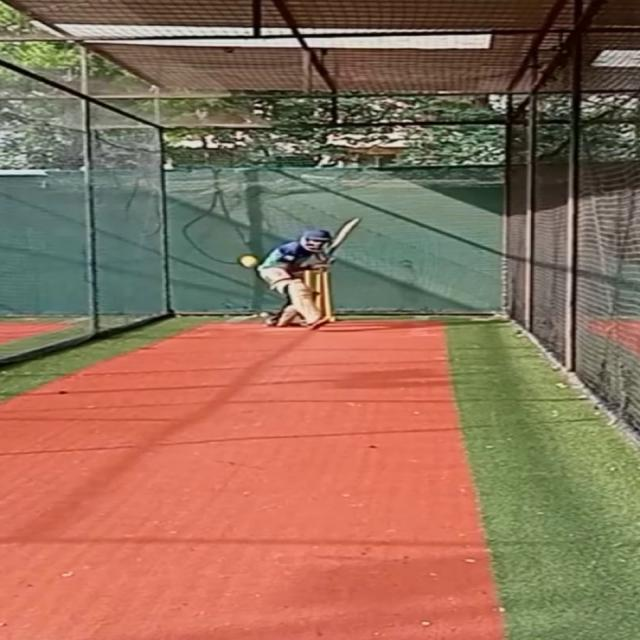ball: (237, 254, 262, 269)
stump: (312, 270, 335, 322)
